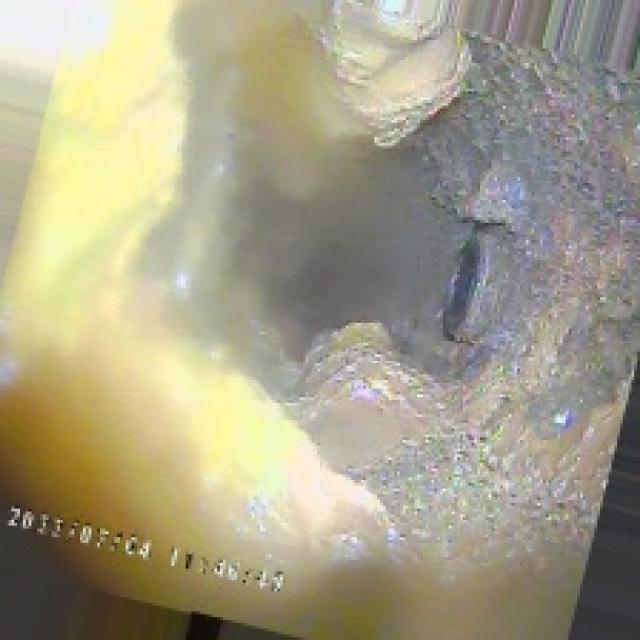encrustation: (294, 6, 592, 520)
ferrule: (437, 226, 506, 343)
